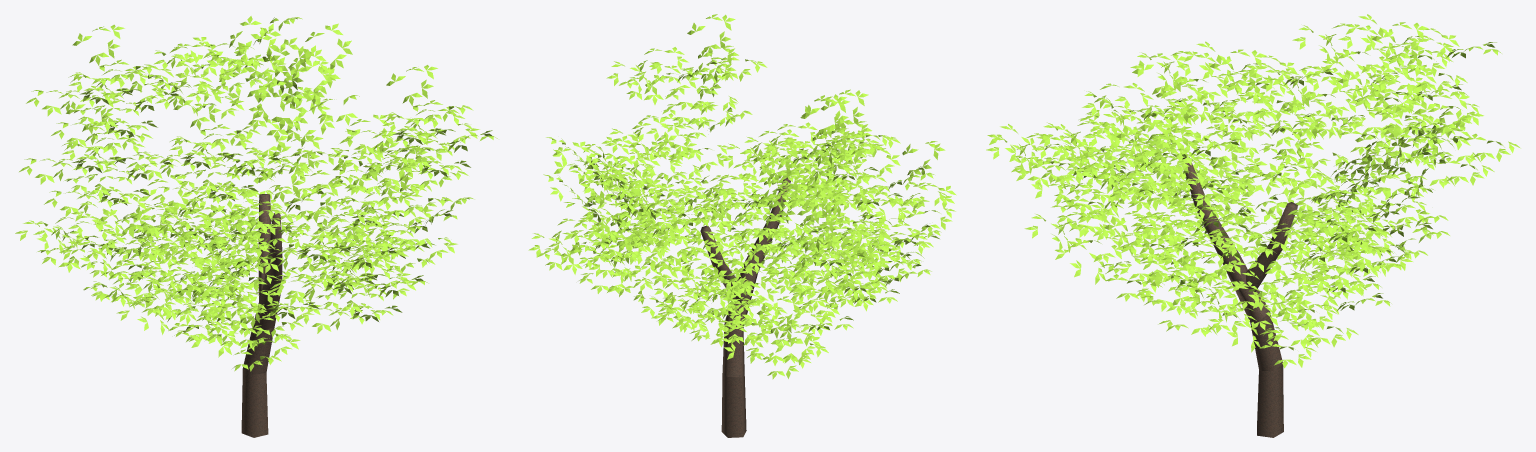
Rendered from tulsi.glb.
3 renders of one model, left to right at view 1: azimuth 30°, elevation 25°; view 2: azimuth 150°, elevation 25°; view 3: azimuth 270°, elevation 25°, orthographic. The views are drawn at different scales.
Parts seen in each view (by area): view 1: C-trunk w branch; view 2: C-trunk w branch; view 3: C-trunk w branch.
Part boxes in pixels (x1,y1,x2,y2): C-trunk w branch: (241, 194, 282, 437); C-trunk w branch: (700, 177, 790, 437); C-trunk w branch: (1182, 157, 1297, 437).
Size of the model in its own units: 4.17 by 3.47 by 4.62.
Materials: 2 (1 with a texture image).
